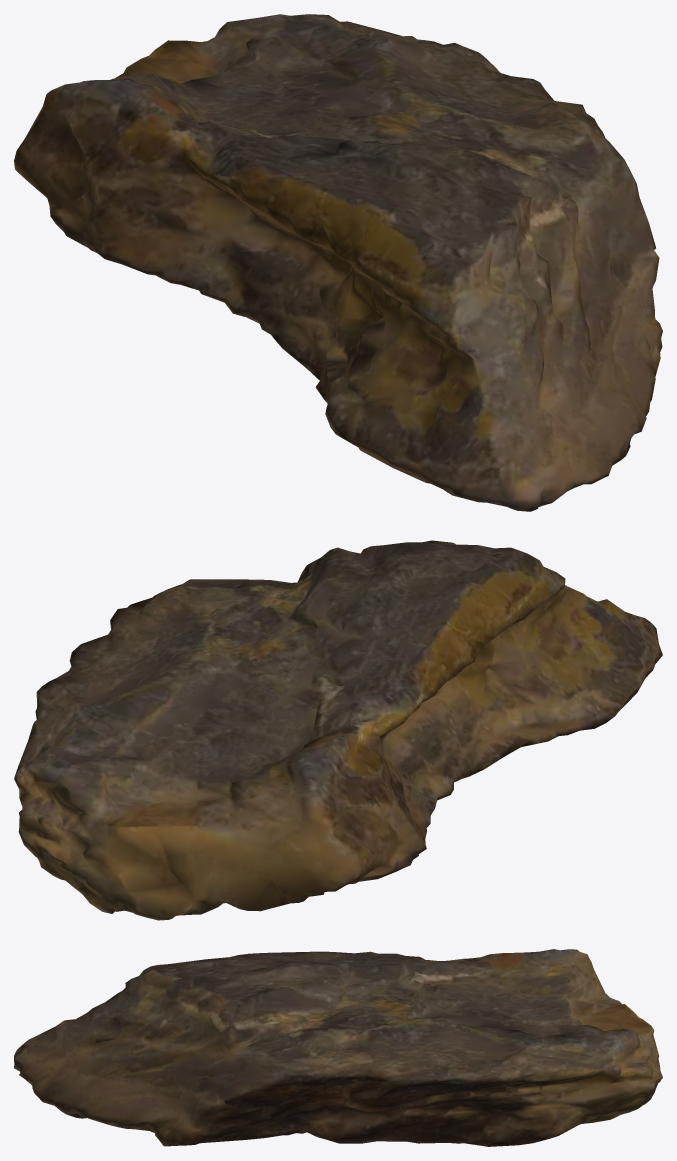
Rendered from rock_09.glb.
The picture shows the model from 3 angles, top to bottom: view 1: azimuth 30°, elevation 25°; view 2: azimuth 150°, elevation 25°; view 3: azimuth 270°, elevation 25°; orthographic projection. The views are drawn at different scales.
Parts seen in each view (by area): view 1: rock_09_LOD0; view 2: rock_09_LOD0; view 3: rock_09_LOD0.
Boxes of the visible parts, bbox=[...] form: rock_09_LOD0: bbox=[14, 14, 662, 511]; rock_09_LOD0: bbox=[14, 540, 662, 920]; rock_09_LOD0: bbox=[14, 949, 662, 1146].
Bounding box in the file's own units: 0.074 × 0.0328 × 0.1446.
1 material, 1 textured.
